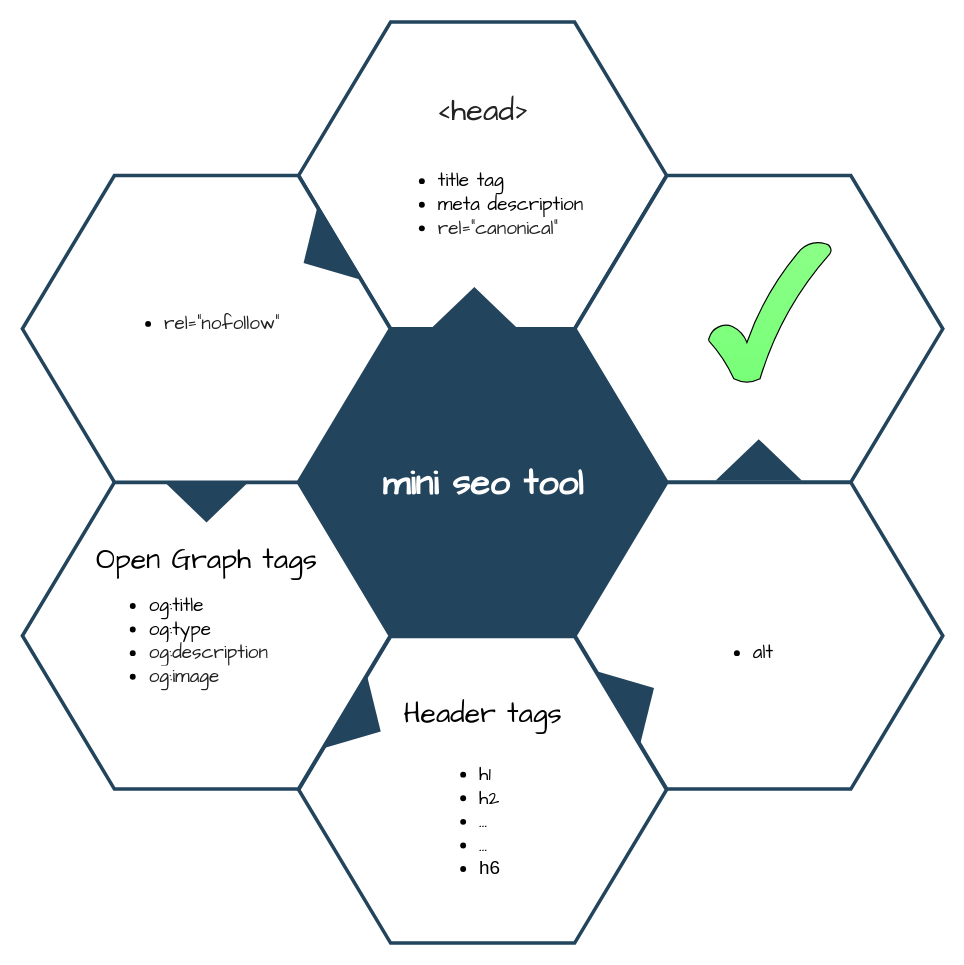
The diagram is 964 pixels wide and 965 high, and some of its shapes have lost their labels. The shapes that lost their labels are listed below. From the top down, each one's box as (x1, y1, x2, y2) in pixels, then its label:
(20, 173, 392, 483): <a></a>
(573, 480, 944, 790): <img>
